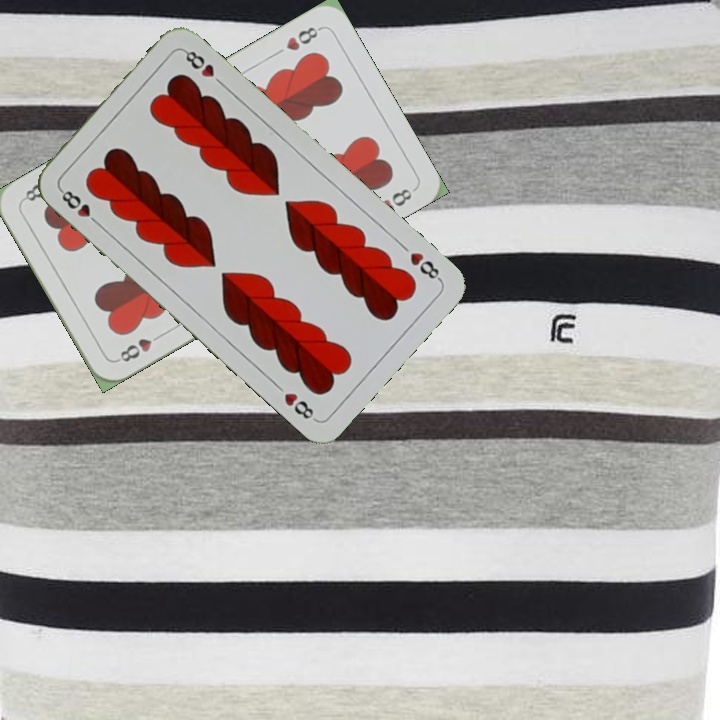H8: (56, 184, 104, 229), (112, 329, 166, 365), (405, 248, 444, 284), (281, 22, 324, 54)
